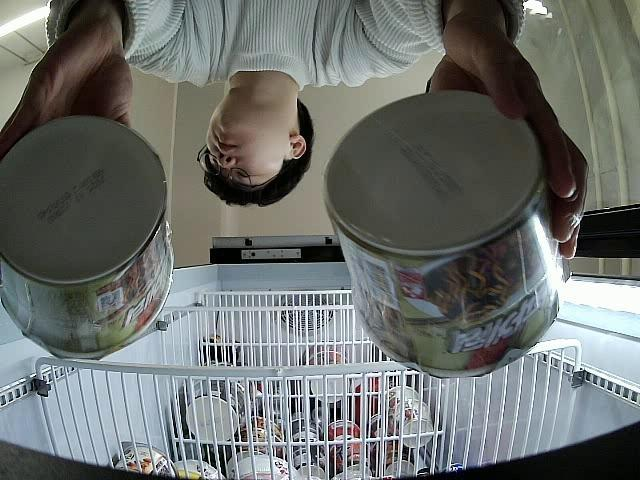03_chapagetti_L: (324, 92, 562, 376), (0, 116, 179, 358)
